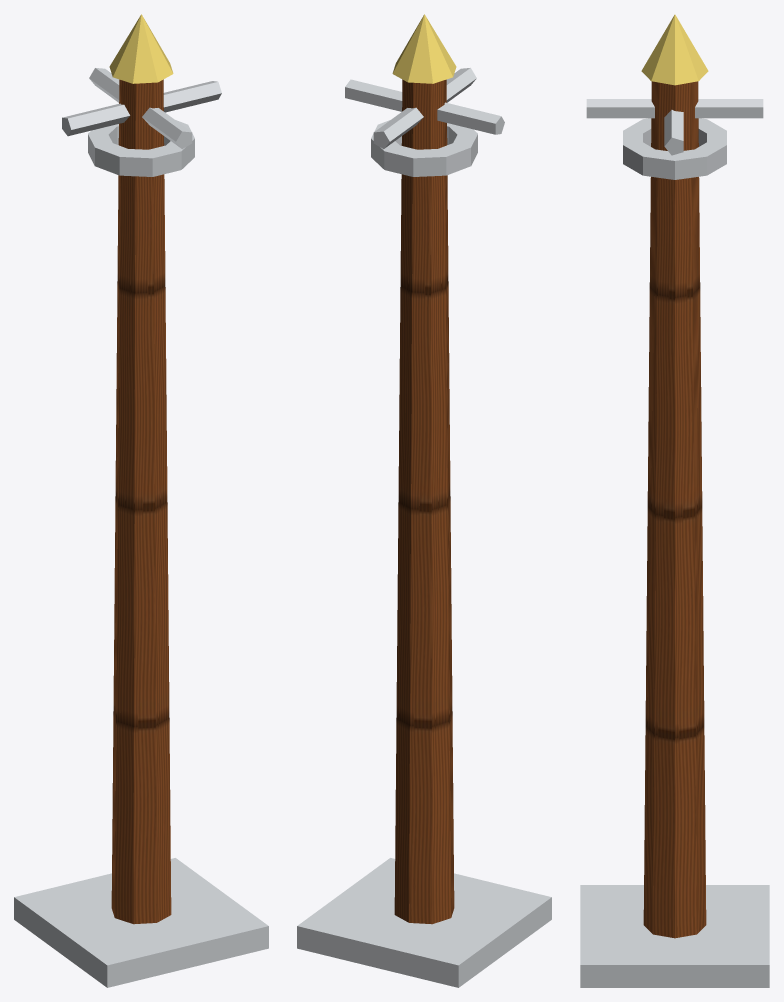
Rendered from travelling-circus-and-big-top-big-top-king-pole-53a357c7__36230.glb.
The picture shows the model from 3 angles, left to right: view 1: azimuth 30°, elevation 25°; view 2: azimuth 150°, elevation 25°; view 3: azimuth 270°, elevation 25°; orthographic projection.
Visible parts, largest first — view 1: big-top-king-pole-timber, big-top-king-pole-steel, big-top-king-pole-gold; view 2: big-top-king-pole-timber, big-top-king-pole-steel, big-top-king-pole-gold; view 3: big-top-king-pole-timber, big-top-king-pole-steel, big-top-king-pole-gold.
Boxes of the visible parts, <box> form: big-top-king-pole-timber: <box>111,79,171,924</box>; big-top-king-pole-steel: <box>14,68,268,987</box>; big-top-king-pole-gold: <box>109,14,173,83</box>; big-top-king-pole-timber: <box>394,79,454,924</box>; big-top-king-pole-steel: <box>297,68,551,987</box>; big-top-king-pole-gold: <box>392,14,456,83</box>; big-top-king-pole-timber: <box>643,81,706,938</box>; big-top-king-pole-steel: <box>580,99,769,987</box>; big-top-king-pole-gold: <box>641,14,708,85</box>.
Bounding box in the file's own units: 0.9002 × 4.9 × 0.9002.
3 materials, 1 textured.
